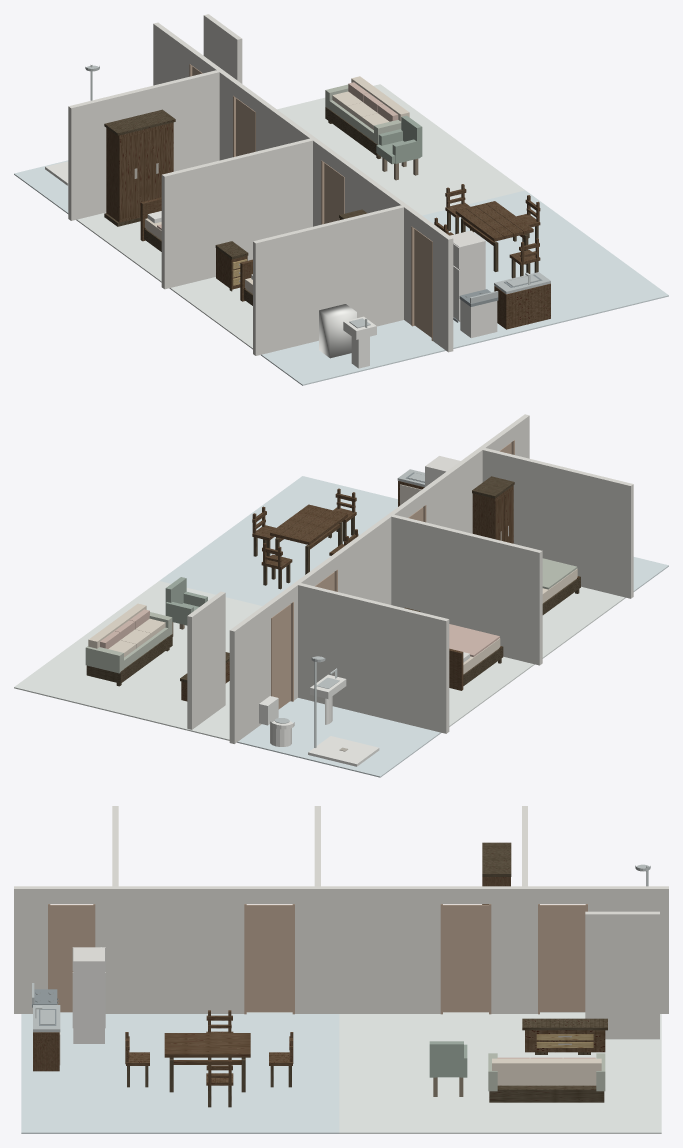
The picture shows the model from 3 angles, top to bottom: view 1: azimuth 30°, elevation 25°; view 2: azimuth 150°, elevation 25°; view 3: azimuth 270°, elevation 25°; orthographic projection. The views are drawn at different scales.
Parts seen in each view (by area): view 1: H11_WALL_07, H11_WALL_06, H11_FLOOR_01_JANTAR_COZINHA, H11_WALL_05, H11_FLOOR_00_SALA, H11_FLOOR_05_SERVICO, H11_FLOOR_04_QUARTO_2, H11_WALL_03, H11_WALL_02, H11_WALL_04, H11_FLOOR_03_QUARTO_1, H11_FURN_15_wardrobe__03__porta_direita (+18 smaller); view 2: H11_WALL_05, H11_WALL_06, H11_WALL_07, H11_FLOOR_00_SALA, H11_FLOOR_01_JANTAR_COZINHA, H11_FLOOR_02_BANHEIRO, H11_WALL_00, H11_WALL_08, H11_WALL_02, H11_WALL_03, H11_FLOOR_04_QUARTO_2, H11_FLOOR_03_QUARTO_1 (+15 smaller); view 3: H11_FLOOR_01_JANTAR_COZINHA, H11_FLOOR_00_SALA, H11_WALL_02, H11_WALL_03, H11_WALL_08, H11_WALL_01, H11_DOOR_02_LEAF, H11_DOOR_01_LEAF, H11_DOOR_00_LEAF, H11_WALL_04, H11_DOOR_03_LEAF, H11_FURN_09_fridge__05__gabinete (+19 smaller).
Boxes of the visible parts, x1,y1,x2,y2 form: H11_WALL_07: (253, 204, 405, 355); H11_WALL_06: (161, 138, 312, 289); H11_FLOOR_01_JANTAR_COZINHA: (422, 190, 668, 348); H11_WALL_05: (68, 69, 221, 220); H11_FLOOR_00_SALA: (277, 84, 525, 215); H11_FLOOR_05_SERVICO: (261, 320, 445, 385); H11_FLOOR_04_QUARTO_2: (169, 277, 252, 349); H11_WALL_03: (344, 162, 416, 324); H11_WALL_02: (255, 97, 326, 226); H11_WALL_04: (432, 227, 453, 352); H11_FLOOR_03_QUARTO_1: (76, 212, 161, 282); H11_FURN_15_wardrobe__03__porta_direita: (119, 132, 145, 220); H11_WALL_05: (298, 583, 449, 733); H11_WALL_06: (389, 514, 542, 665); H11_WALL_07: (481, 447, 633, 598); H11_FLOOR_00_SALA: (14, 581, 262, 740); H11_FLOOR_01_JANTAR_COZINHA: (159, 476, 397, 605); H11_FLOOR_02_BANHEIRO: (237, 698, 441, 777); H11_WALL_00: (229, 603, 271, 743); H11_WALL_08: (187, 591, 225, 729); H11_WALL_02: (332, 506, 403, 604); H11_WALL_03: (421, 441, 493, 533); H11_FLOOR_04_QUARTO_2: (542, 586, 625, 658); H11_FLOOR_03_QUARTO_1: (449, 656, 534, 726); H11_FLOOR_01_JANTAR_COZINHA: (21, 1012, 339, 1133); H11_FLOOR_00_SALA: (339, 1012, 661, 1133); H11_WALL_02: (294, 886, 441, 1013); H11_WALL_03: (94, 886, 245, 1013); H11_WALL_08: (585, 911, 659, 1039); H11_WALL_01: (490, 886, 538, 1013); H11_DOOR_02_LEAF: (246, 904, 292, 1012); H11_DOOR_01_LEAF: (443, 904, 488, 1012); H11_DOOR_00_LEAF: (540, 904, 585, 1012); H11_WALL_04: (14, 886, 49, 1013); H11_DOOR_03_LEAF: (50, 904, 93, 1012); H11_FURN_09_fridge__05__gabinete: (73, 947, 104, 1043).
Bounding box in the file's own units: 8.4 × 2.46 × 11.54.
Materials: 21 (3 with a texture image).
